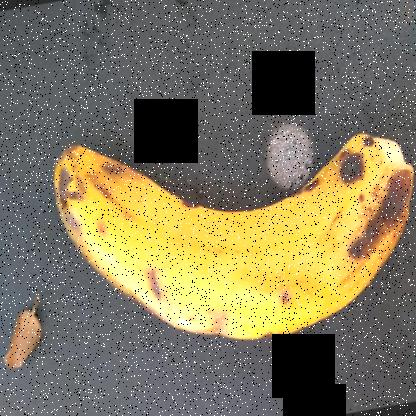overripe: (38, 106, 415, 353)
